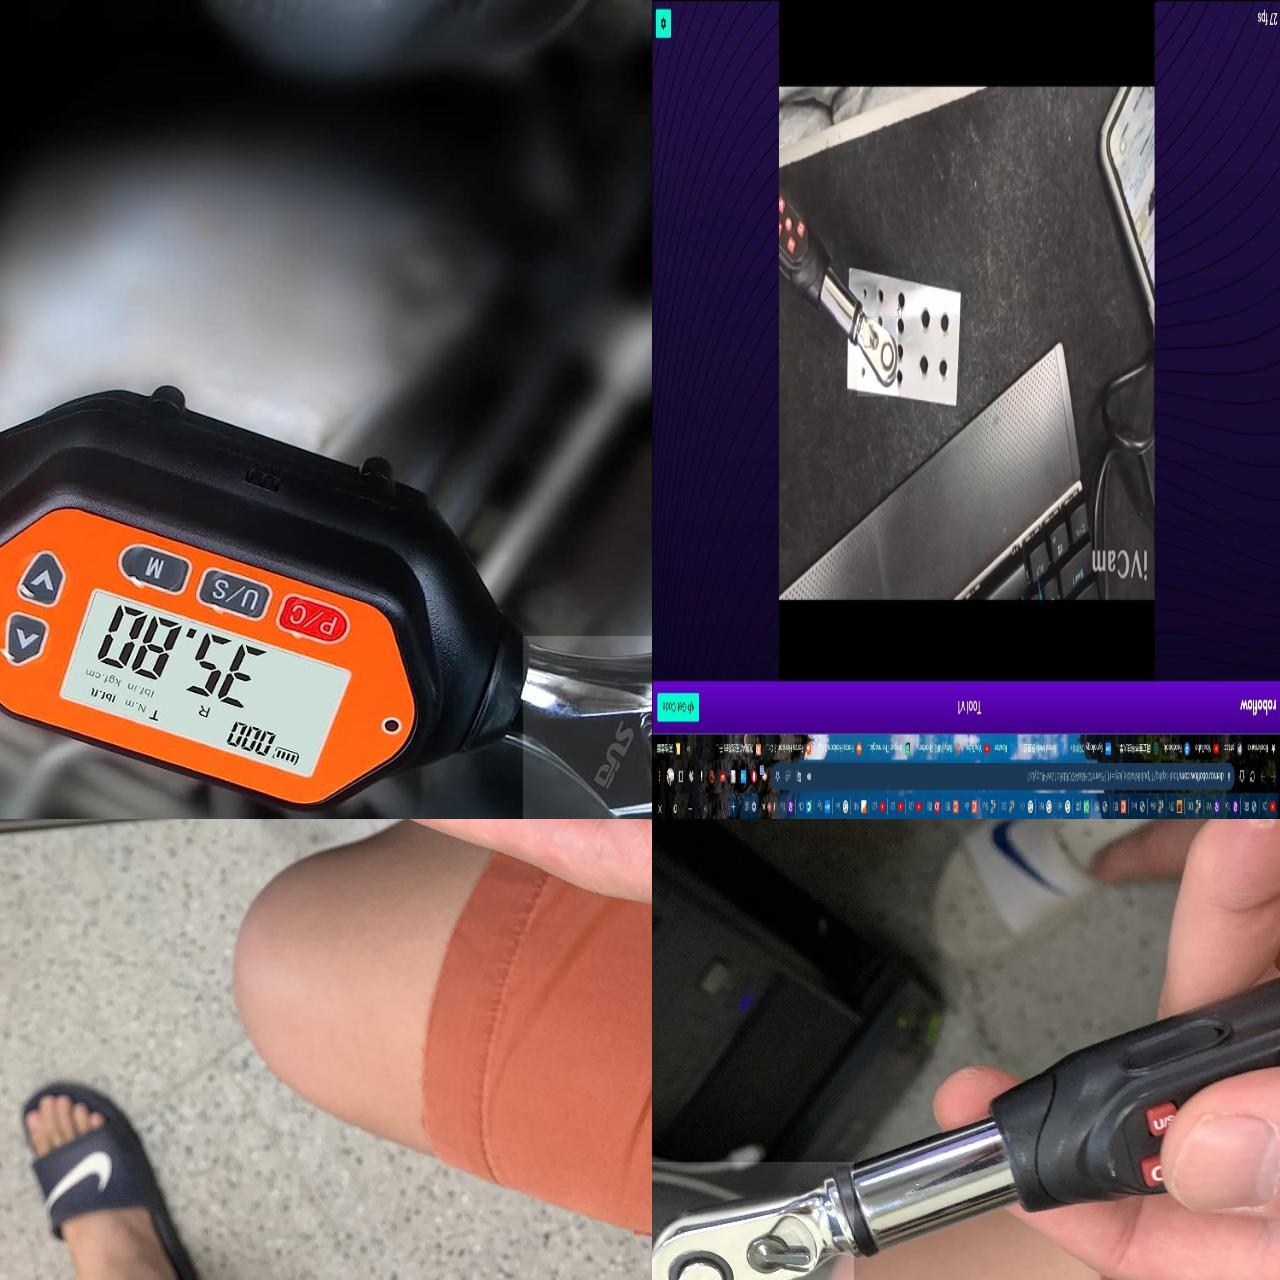Tool: (522, 635, 652, 819), (652, 1161, 853, 1280), (856, 316, 897, 396)
